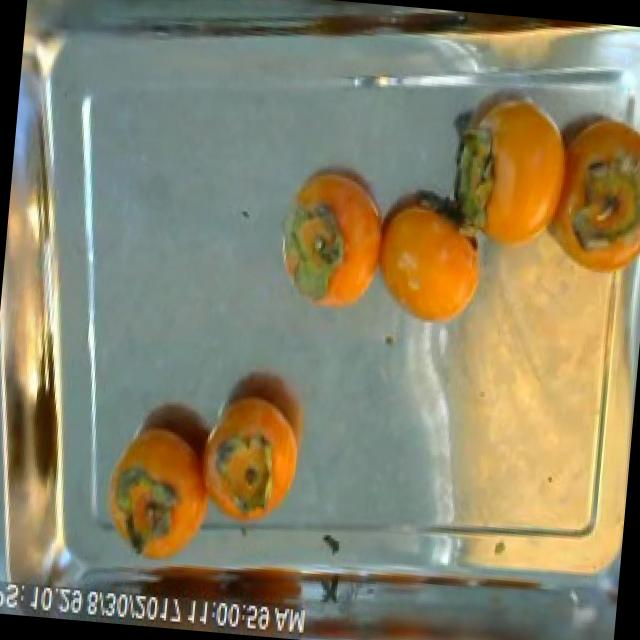Fruit: (98, 384, 233, 572), (191, 354, 326, 540), (359, 168, 495, 346), (274, 150, 400, 326)
